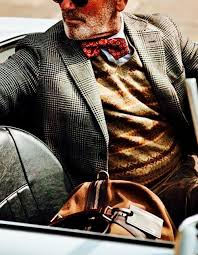bow: (76, 34, 133, 62)
